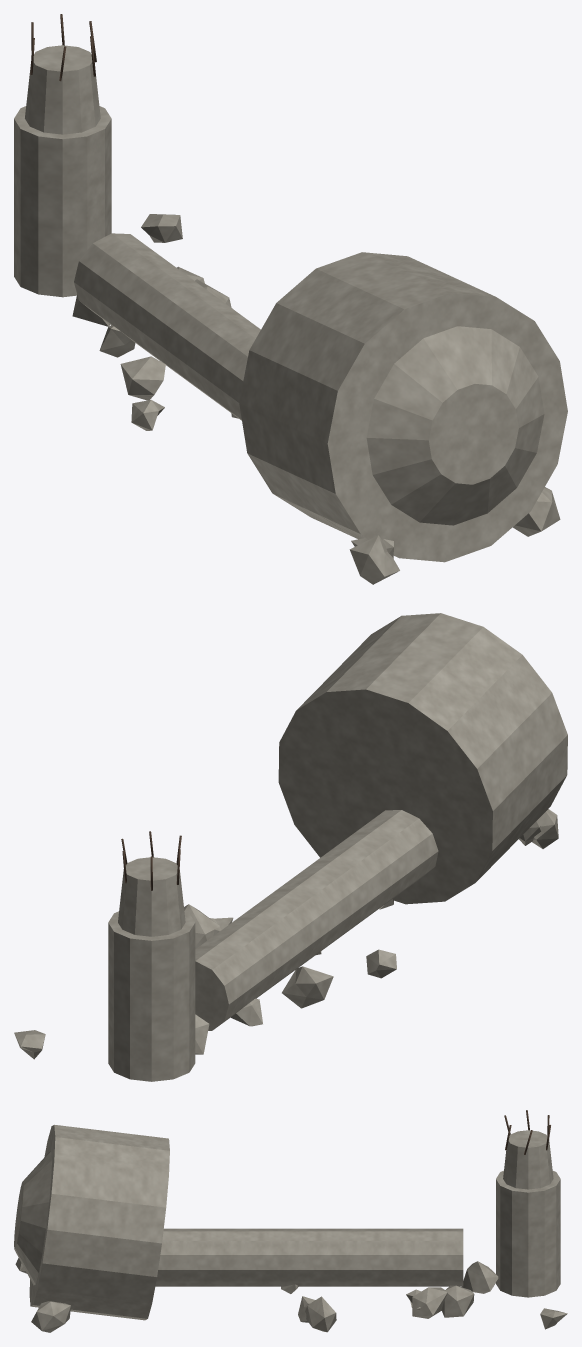
File: water_tower.glb
3 renders of one model, top to bottom at view 1: azimuth 30°, elevation 25°; view 2: azimuth 150°, elevation 25°; view 3: azimuth 270°, elevation 25°, orthographic. The views are drawn at different scales.
Visible parts, largest first — view 1: WaterTower; view 2: WaterTower; view 3: WaterTower.
Boxes of the visible parts, box(x1,y1,x2,y2) form: WaterTower: box(14, 14, 567, 584); WaterTower: box(14, 613, 567, 1081); WaterTower: box(14, 1110, 567, 1332).
Bounding box in the file's own units: 8.03 × 8.89 × 23.92.
Materials: 2 (1 with a texture image).
